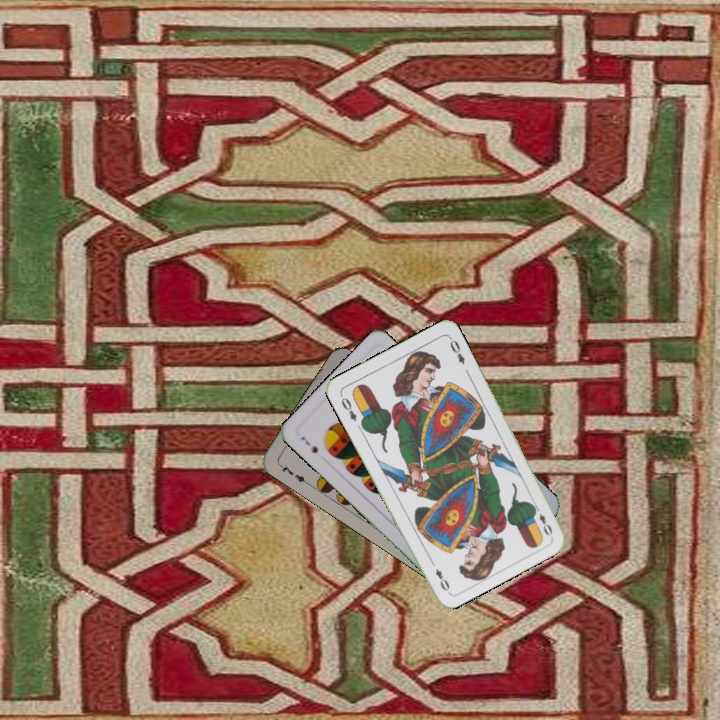E7: (275, 460, 311, 487)
EO: (529, 501, 555, 539), (336, 391, 359, 424)
S7: (296, 432, 320, 456)
